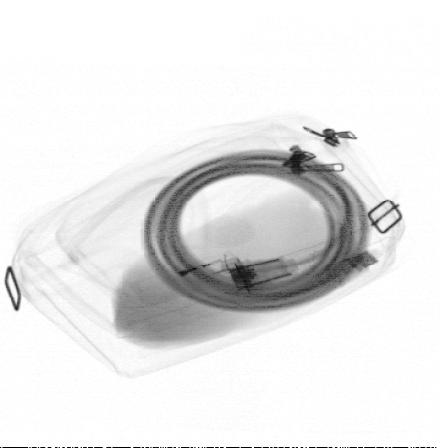Lighter: (149, 251, 247, 295)
